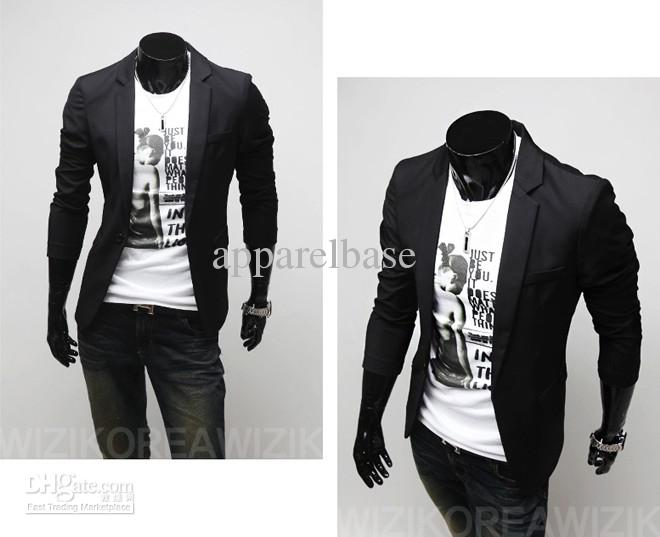C_jeans: (75, 311, 230, 459)
F_M_suit jacket: (360, 119, 644, 481), (45, 47, 280, 332)
